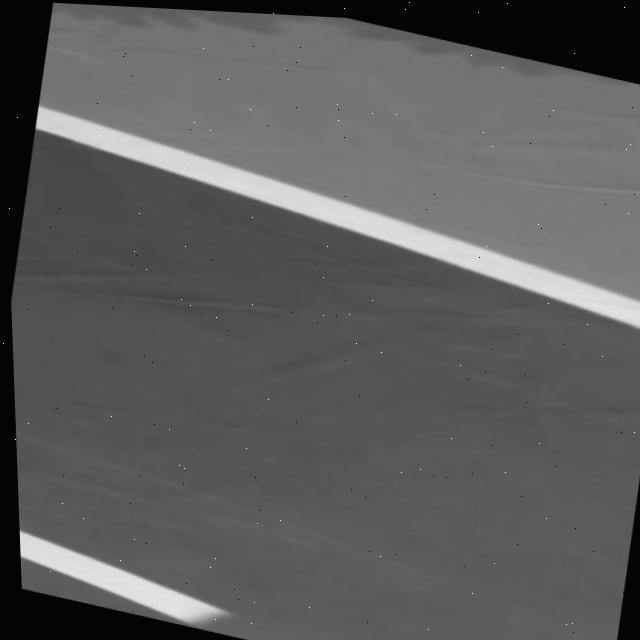center: (20, 532, 228, 623)
right: (34, 106, 640, 329)
